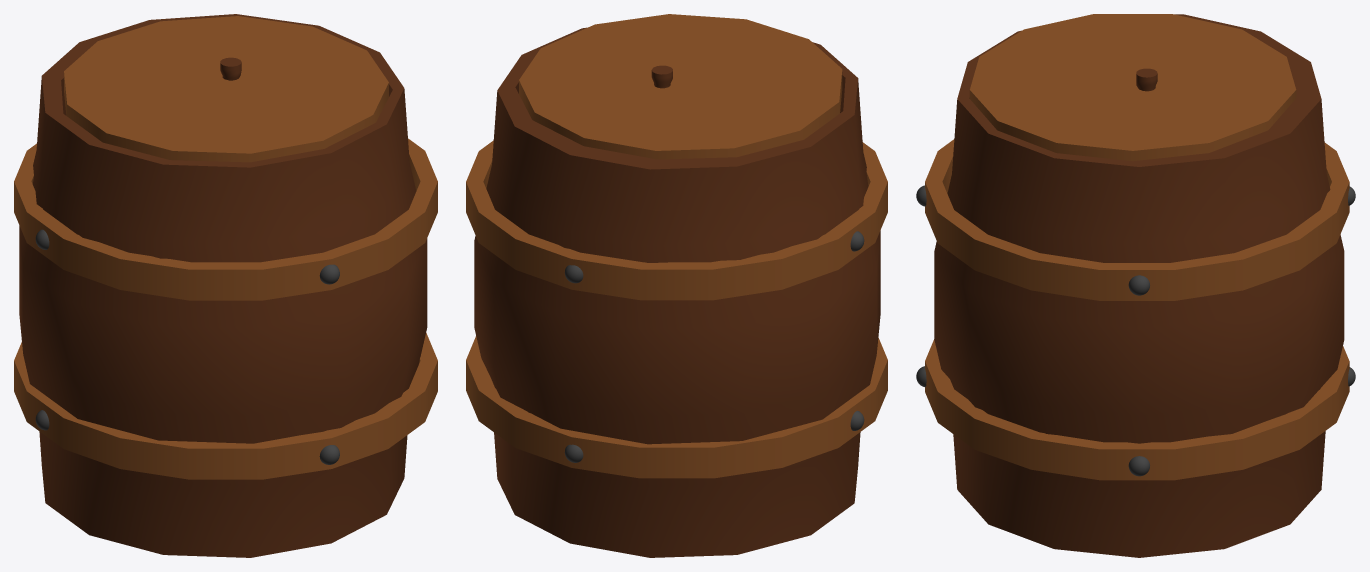
The model's file is beczka export to Unity.fbx.
3 renders of one model, left to right at view 1: azimuth 30°, elevation 25°; view 2: azimuth 150°, elevation 25°; view 3: azimuth 270°, elevation 25°, orthographic.
Visible parts, largest first — view 1: Cylinder001, Cylinder003, Tube001, Tube002; view 2: Cylinder001, Cylinder003, Tube001, Tube002; view 3: Cylinder001, Cylinder003, Tube001, Tube002.
Boxes of the visible parts, box(x1,y1,x2,y2) form: Cylinder001: box(19, 14, 427, 557); Cylinder003: box(64, 16, 388, 162); Tube001: box(14, 138, 437, 300); Tube002: box(14, 332, 437, 479); Cylinder001: box(474, 27, 880, 557); Cylinder003: box(519, 14, 842, 159); Tube001: box(466, 140, 887, 300); Tube002: box(466, 336, 887, 478); Cylinder001: box(934, 14, 1344, 557); Cylinder003: box(969, 14, 1296, 161); Tube001: box(925, 139, 1349, 300); Tube002: box(925, 339, 1349, 480).
Size of the model in its own units: 12.75 by 13.35 by 12.84.
